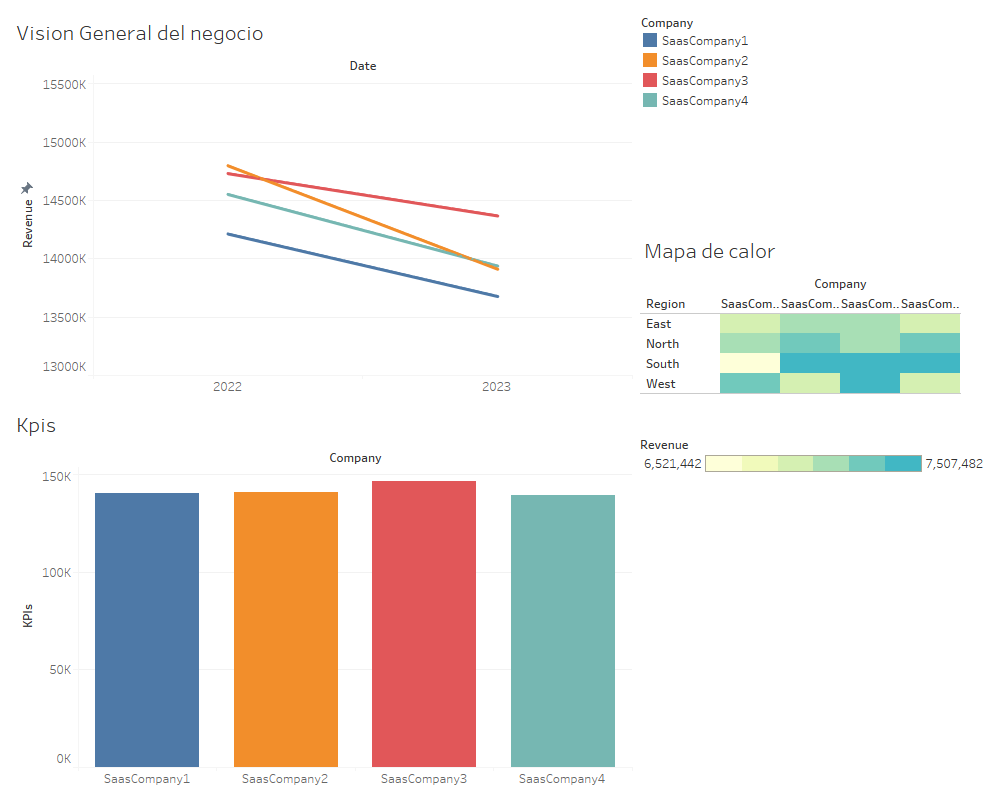

This screenshot's page, from the dashboard's own definition file:
{"tool":"tableau","page":{"name":"Dashboard 1","canvas":[1000,800],"ordinal":0},"visuals":[{"type":"worksheet","title":"Hoja 2","mark":"Line","rows":["revenue"],"cols":["date"],"box":[8,8,628,392]},{"type":"legend","title":"Hoja 1","param":"[federated.1x9e8b70590mne141ubou0s6iz3p].[none:company:nk]","box":[636,8,356,218]},{"type":"worksheet","title":"Hoja 3","mark":"Automatic","rows":["region"],"cols":["company"],"box":[636,226,356,202]},{"type":"worksheet","title":"Hoja 1","mark":"Automatic","rows":["Calculation_2053078504665464839"],"cols":["company"],"box":[8,400,628,392]},{"type":"legend","title":"Hoja 3","param":"[federated.1x9e8b70590mne141ubou0s6iz3p].[sum:revenue:qk]","box":[636,428,356,65]}]}

Visuals, with their boxes in screenshot pixels (x1, y1, x2, y2), scaled from the page's 1000x800 canvas onto the 1000x800 screenshot:
"Hoja 2" worksheet (Line marks): 8, 8, 636, 400
"Hoja 1" legend: 636, 8, 992, 226
"Hoja 3" worksheet: 636, 226, 992, 428
"Hoja 1" worksheet: 8, 400, 636, 792
"Hoja 3" legend: 636, 428, 992, 493
